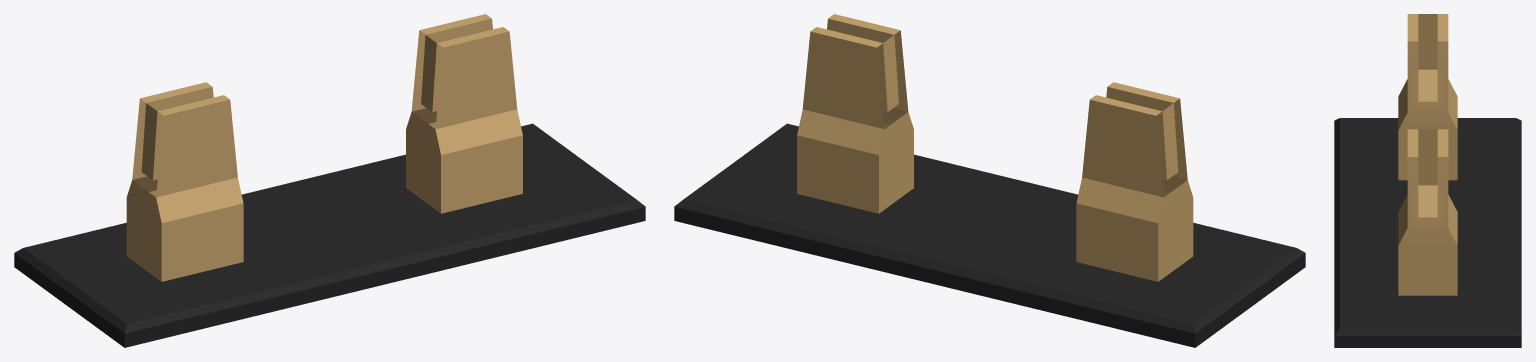
Rendered from Doidera.fbx.
3 views of the same model, side by side, from view 1: azimuth 30°, elevation 25°; view 2: azimuth 150°, elevation 25°; view 3: azimuth 270°, elevation 25° (orthographic). The views are drawn at different scales.
Visible parts, largest first — view 1: Base; view 2: Base; view 3: Base.
Part boxes in pixels (left/top/right/bottom): Base: left=14, top=14, right=645, bottom=347; Base: left=674, top=14, right=1305, bottom=347; Base: left=1334, top=14, right=1521, bottom=347.
Bounding box in the file's own units: 646 × 214 × 237.
